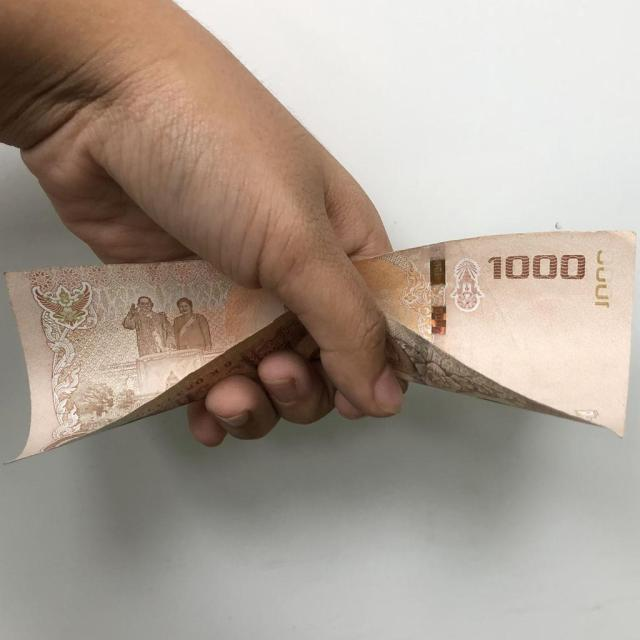THAI1000: (4, 260, 319, 461), (353, 231, 639, 438)
